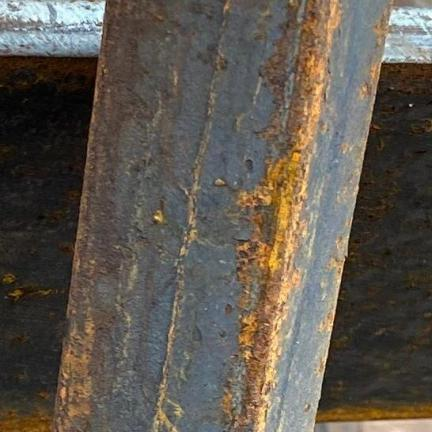karat: (218, 3, 346, 429)
